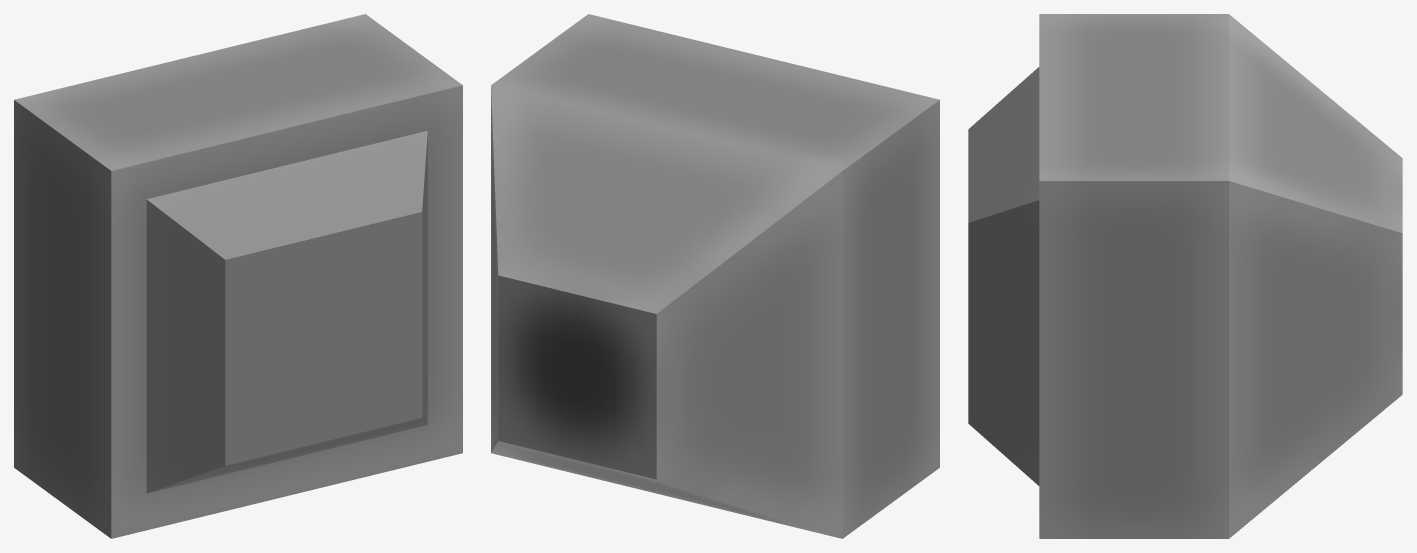
Rendered from Tantares_SolarStandard_A_Base.obj.
3 views of the same model, side by side, from view 1: azimuth 30°, elevation 25°; view 2: azimuth 150°, elevation 25°; view 3: azimuth 270°, elevation 25° (orthographic). The views are drawn at different scales.
Visible parts, largest first — view 1: Tantares_SolarBasic_A_Base; view 2: Tantares_SolarBasic_A_Base; view 3: Tantares_SolarBasic_A_Base.
Part boxes in pixels (box(x1,y1,x2,y2)): Tantares_SolarBasic_A_Base: box(14, 14, 462, 538); Tantares_SolarBasic_A_Base: box(491, 14, 939, 538); Tantares_SolarBasic_A_Base: box(968, 14, 1402, 538).
Size of the model in its own units: 0.1 by 0.1 by 0.11.
1 material, 1 textured.
